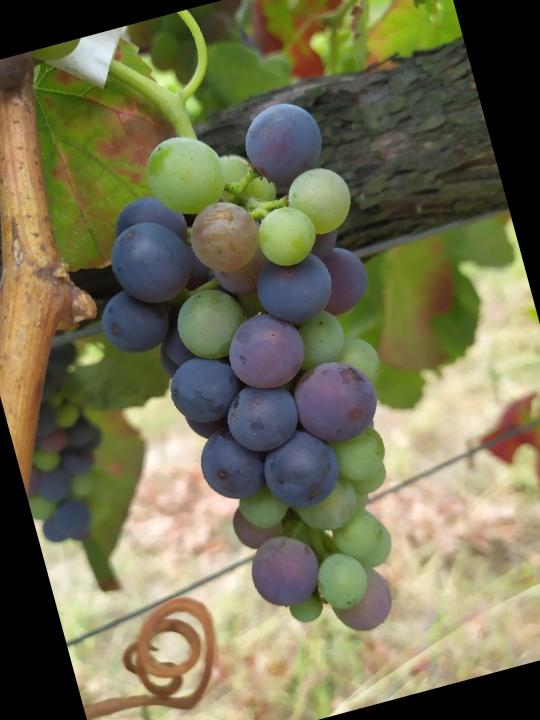grape: (56, 86, 465, 679)
